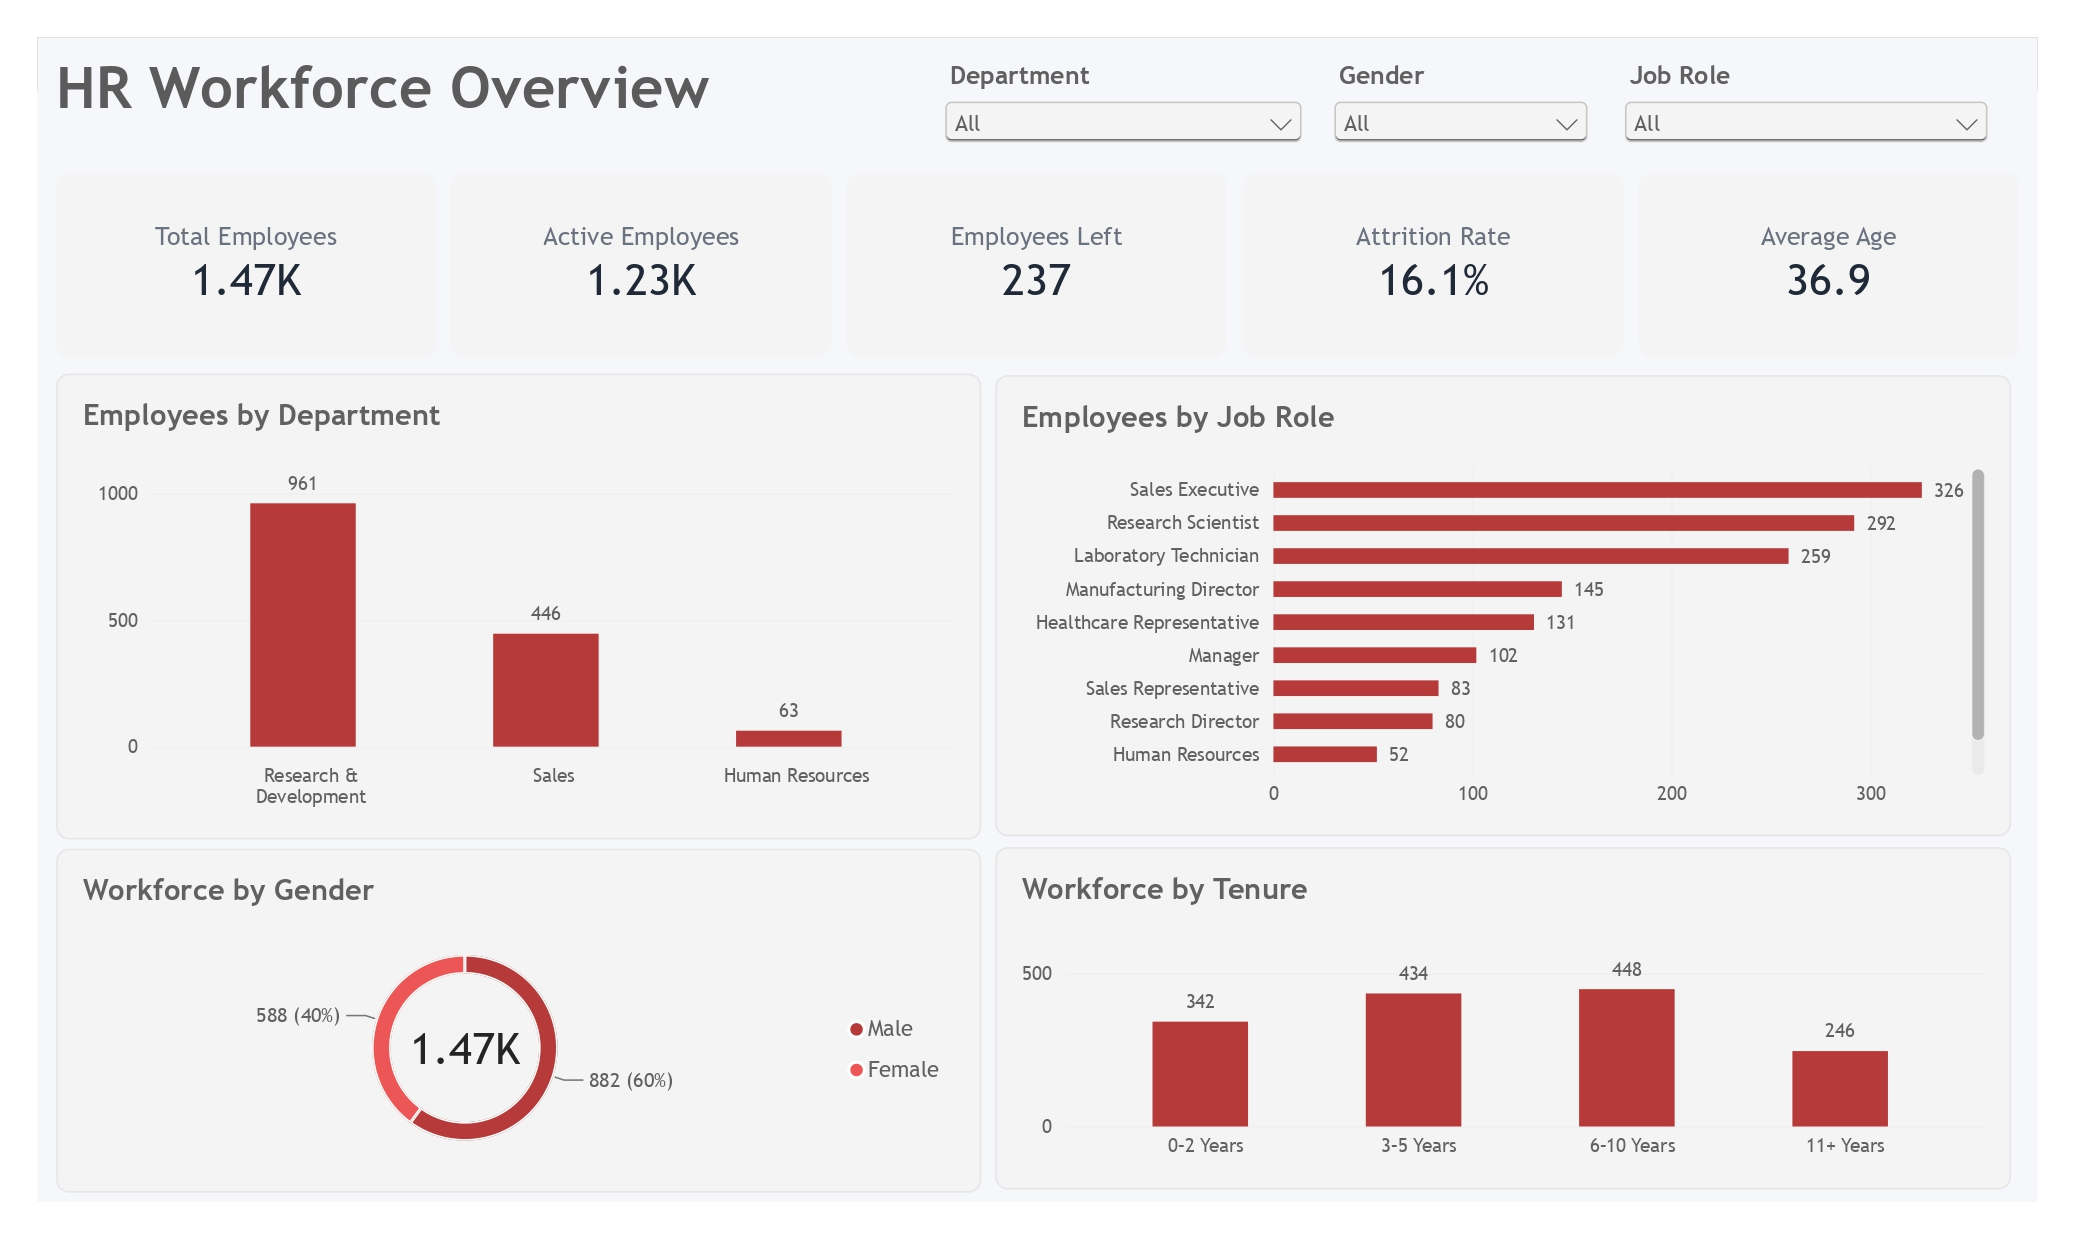

What the dashboard file says about the page in this screenshot:
{"tool":"powerbi","page":{"name":"Workforce Overview","canvas":[1280,745],"ordinal":0},"visuals":[{"type":"textbox","box":[11.8,10.1,1256.6,71.2],"z":0},{"type":"clusteredColumnChart","title":"Employees by Department","fields":{"Category":["hr_employee_attrition_analytics.department"],"Y":["hr_employee_attrition_analytics.Total Employees"]},"box":[12.3,215.3,591.3,297.4],"z":1000},{"type":"slicer","fields":{"Values":["hr_employee_attrition_analytics.department"]},"box":[576.1,14.9,237.9,62],"z":2000},{"type":"cardVisual","fields":{"Data":["hr_employee_attrition_analytics.Total Employees"]},"box":[11.8,86.9,243.3,117.7],"z":3000},{"type":"slicer","fields":{"Values":["hr_employee_attrition_analytics.gender"]},"box":[824.9,14.9,172.1,62],"z":4000},{"type":"clusteredBarChart","title":"Employees by Job Role","fields":{"Category":["hr_employee_attrition_analytics.job_role"],"Y":["hr_employee_attrition_analytics.Total Employees"]},"box":[612.8,215.6,650.5,295.9],"z":5000},{"type":"slicer","fields":{"Values":["hr_employee_attrition_analytics.job_role"]},"box":[1010.7,14.9,242.6,62],"z":6000},{"type":"cardVisual","fields":{"Data":["hr_employee_attrition_analytics.Active Employees"]},"box":[265.1,86.9,243.3,117.7],"z":7000},{"type":"cardVisual","fields":{"Data":["hr_employee_attrition_analytics.Employees Left"]},"box":[518.4,86.9,243.3,117.7],"z":8000},{"type":"cardVisual","fields":{"Data":["hr_employee_attrition_analytics.Attrition Rate"]},"box":[771.8,86.9,243.3,117.7],"z":9000},{"type":"cardVisual","fields":{"Data":["hr_employee_attrition_analytics.Average Age"]},"box":[1025.1,86.9,243.3,117.7],"z":10000},{"type":"donutChart","title":"Workforce by Gender","fields":{"Category":["hr_employee_attrition_analytics.gender"],"Y":["hr_employee_attrition_analytics.Total Employees"]},"box":[12.2,519.3,591.3,219.5],"z":11000},{"type":"clusteredColumnChart","title":"Workforce by Tenure","fields":{"Category":["hr_employee_attrition_analytics.Tenure Group"],"Y":["hr_employee_attrition_analytics.Total Employees"]},"box":[613.3,518.2,649.6,218.9],"z":12000}]}

Visuals, with their boxes on the page's 1280x745 design canvas (x1, y1, x2, y2). These are canvas units, not pixel positions in the 2075x1240 screenshot, which may show the page scaled, cropped or inside an application window:
textbox: [12,10,1268,81]
"Employees by Department" clusteredColumnChart: [12,215,604,513]
slicer - hr_employee_attrition_analytics.department: [576,15,814,77]
cardVisual - hr_employee_attrition_analytics.Total Employees: [12,87,255,205]
slicer - hr_employee_attrition_analytics.gender: [825,15,997,77]
"Employees by Job Role" clusteredBarChart: [613,216,1263,512]
slicer - hr_employee_attrition_analytics.job_role: [1011,15,1253,77]
cardVisual - hr_employee_attrition_analytics.Active Employees: [265,87,508,205]
cardVisual - hr_employee_attrition_analytics.Employees Left: [518,87,762,205]
cardVisual - hr_employee_attrition_analytics.Attrition Rate: [772,87,1015,205]
cardVisual - hr_employee_attrition_analytics.Average Age: [1025,87,1268,205]
"Workforce by Gender" donutChart: [12,519,604,739]
"Workforce by Tenure" clusteredColumnChart: [613,518,1263,737]
